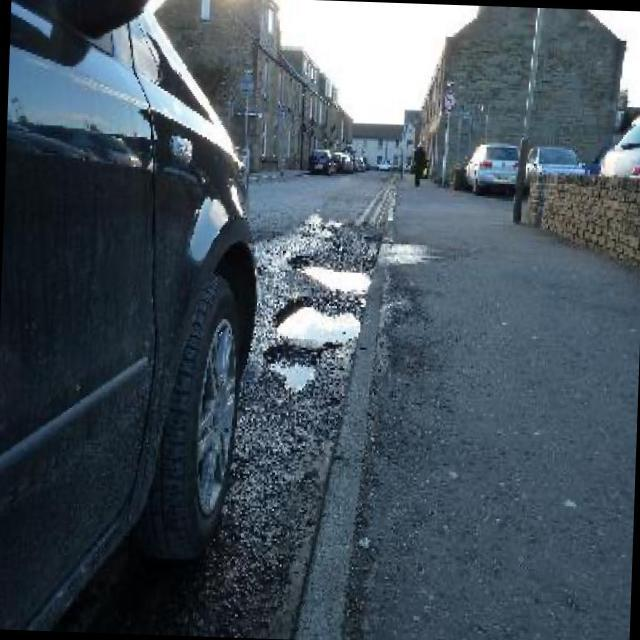Pothole: (276, 308, 360, 347), (303, 269, 370, 295), (270, 366, 315, 390)
